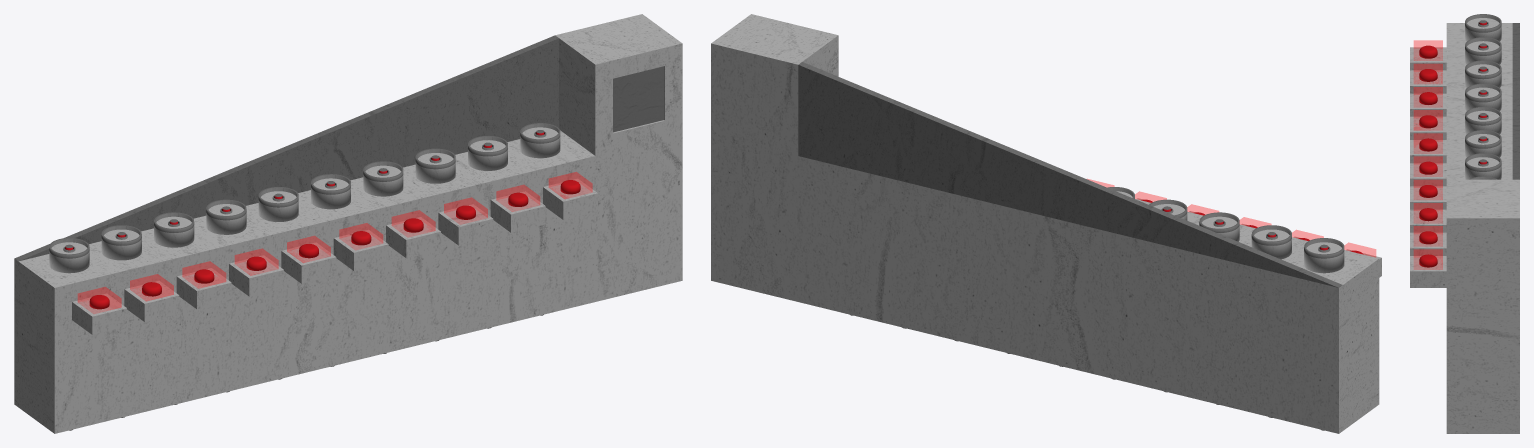
Rendered from Pillars.fbx.
The picture shows the model from 3 angles, left to right: view 1: azimuth 30°, elevation 25°; view 2: azimuth 150°, elevation 25°; view 3: azimuth 270°, elevation 25°; orthographic projection. The views are drawn at different scales.
Visible parts, largest first — view 1: Base, Ramp, Cube, Pillar6, Pillar2, Pillar7, Pillar1, Pillar3, Pillar9, Pillar0, Pillar4, Pillar5 (+11 smaller); view 2: Base, Ramp, Pillar0, Pillar1, Pillar2; view 3: Base, Ramp, Pillar1, Pillar0, Pillar5, Pillar3, Pillar2, Pillar6, Pillar4, IN0, IN4, IN5 (+17 smaller).
Part boxes in pixels (x1,y1,x2,y2): Base: (14, 14, 682, 433); Ramp: (14, 35, 558, 261); Cube: (613, 66, 663, 132); Pillar6: (363, 161, 403, 196); Pillar2: (154, 212, 194, 247); Pillar7: (415, 148, 455, 183); Pillar1: (101, 225, 141, 260); Pillar3: (206, 199, 246, 234); Pillar9: (520, 123, 560, 158); Pillar0: (49, 238, 89, 273); Pillar4: (258, 187, 298, 221); Pillar5: (311, 174, 350, 209); Base: (711, 14, 1381, 433); Ramp: (798, 62, 1342, 287); Pillar0: (1304, 238, 1344, 273); Pillar1: (1251, 225, 1291, 259); Pillar2: (1199, 212, 1239, 241); Base: (1410, 23, 1519, 433); Ramp: (1512, 23, 1519, 179); Pillar1: (1465, 37, 1501, 64); Pillar0: (1465, 14, 1501, 41); Pillar5: (1465, 130, 1501, 157); Pillar3: (1465, 83, 1501, 110); Pillar2: (1465, 60, 1501, 87); Pillar6: (1465, 153, 1501, 179); Pillar4: (1465, 106, 1501, 134); IN0: (1414, 40, 1442, 60); IN4: (1414, 133, 1442, 153); IN5: (1414, 156, 1442, 176).
Size of the model in its own units: 3.6 by 1.4 by 0.6.
